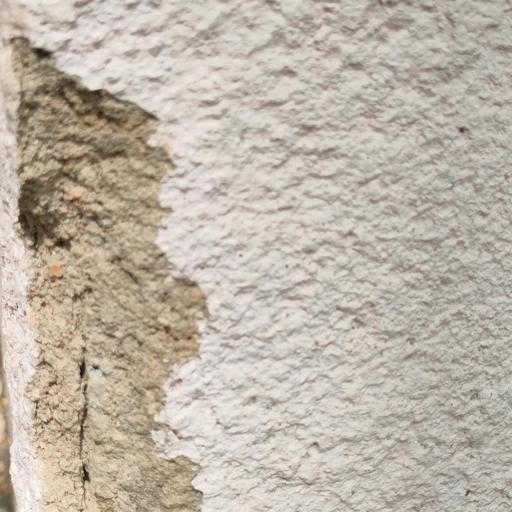spalling: (5, 25, 217, 512)
